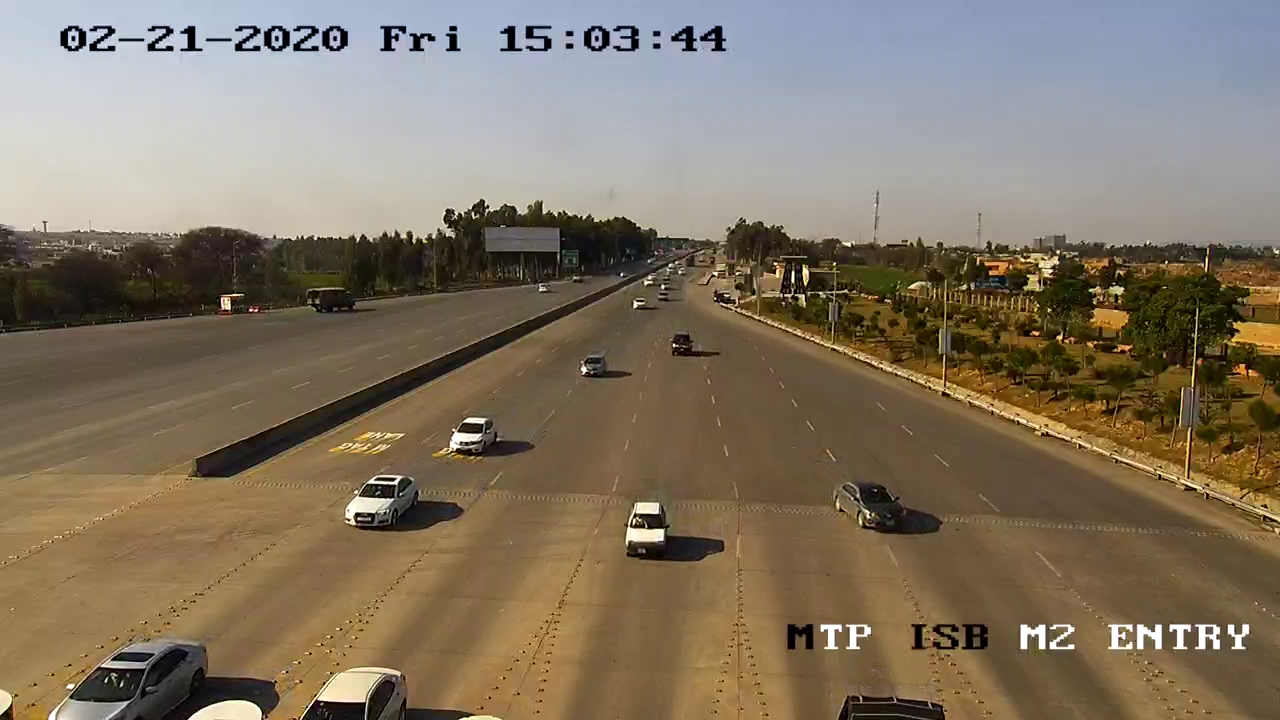f1: (332, 465, 423, 540), (818, 471, 914, 542), (612, 491, 677, 564), (437, 409, 505, 465)
